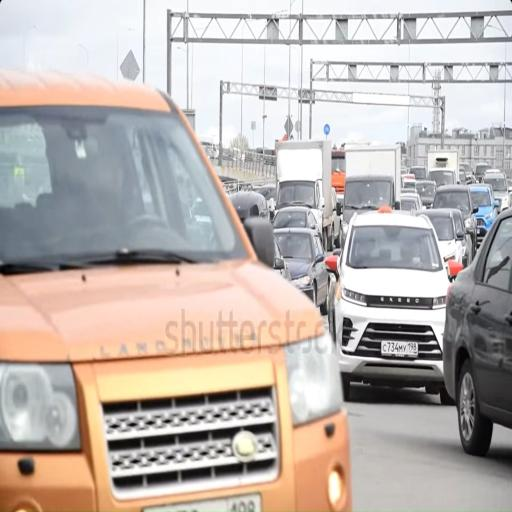License plates: (144, 494, 261, 511), (381, 341, 418, 357), (477, 228, 481, 234)
